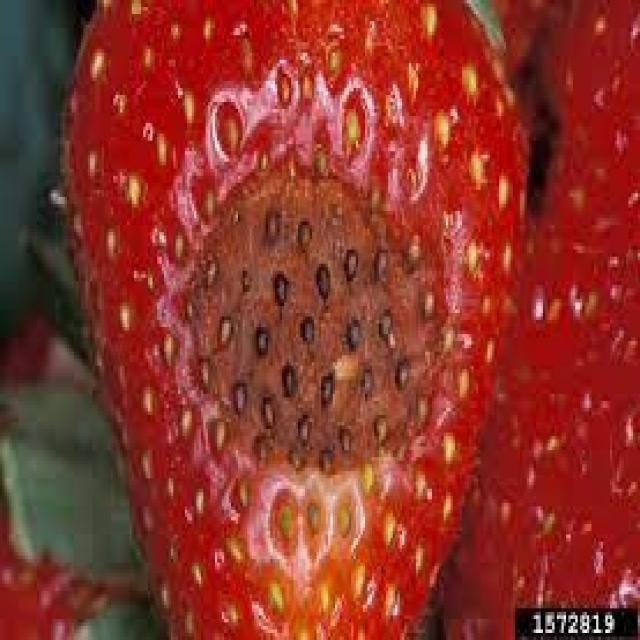Mancha negra Antracnosis: (61, 0, 529, 638)
